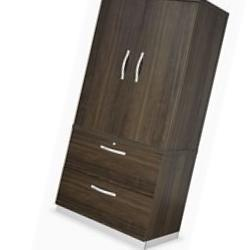Armario: (59, 6, 226, 245)
